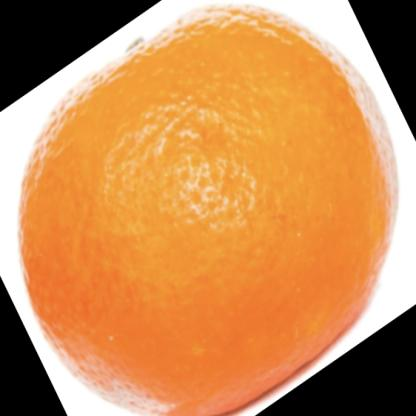fresh: (19, 8, 398, 416)
